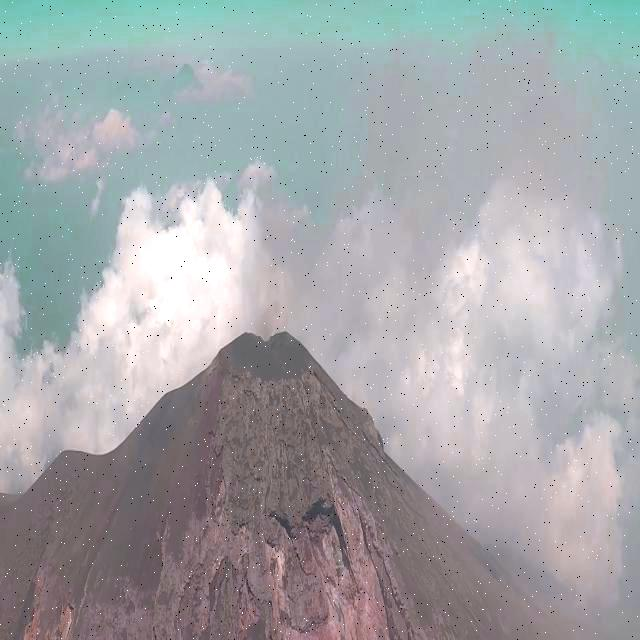Summit: (4, 314, 559, 640)
